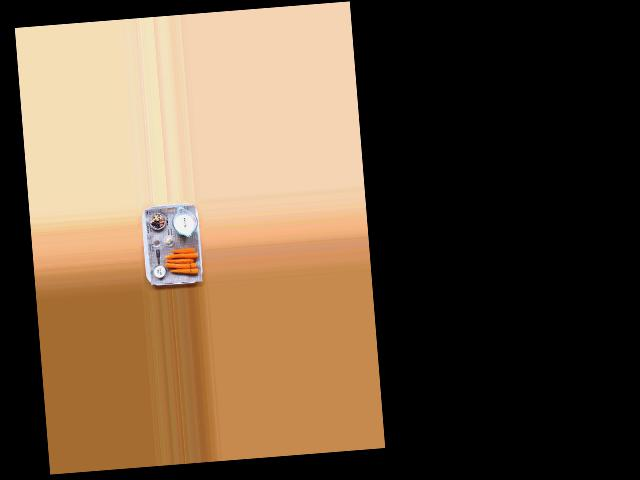carrot: (168, 265, 198, 276)
